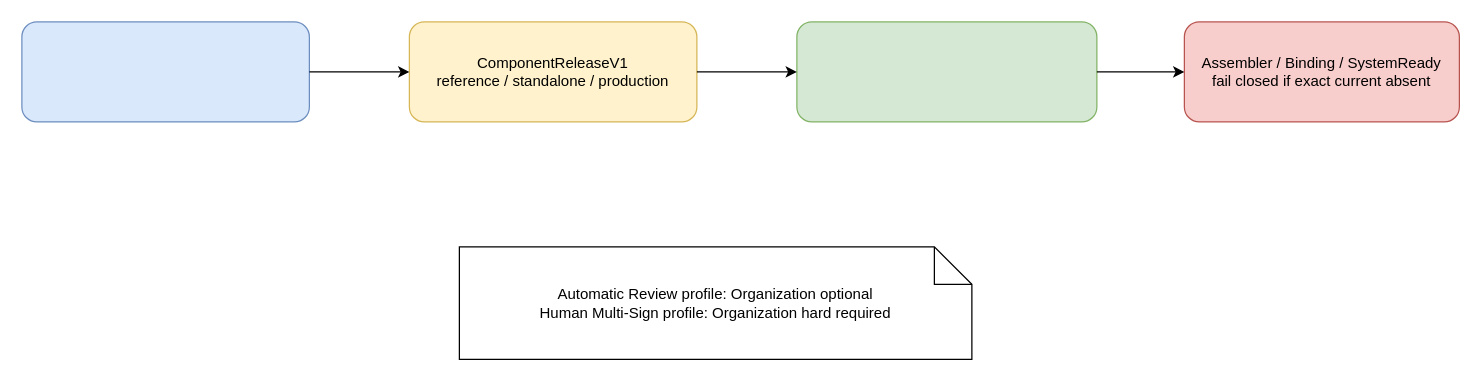
This 1481x381 diagram has some shape labels left out. Here are the shapes that lost their labels. From the top down, the centre of each, then its label:
At (x=165, y=71): "Organization Facts + SQLite Current Owner".
At (x=946, y=71): "Human Multi-Sign Review variant required Organization capability".
